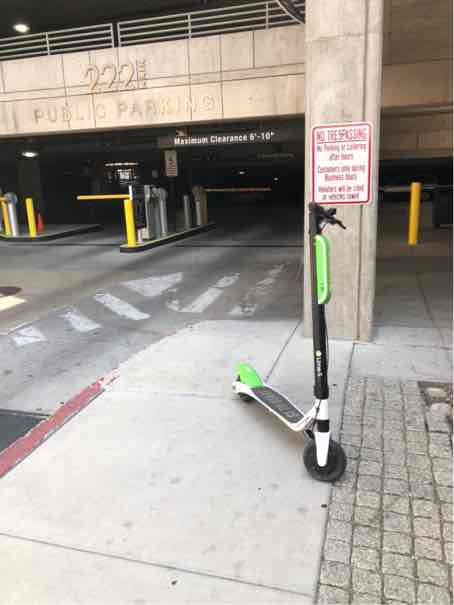scooter: (224, 199, 348, 488)
